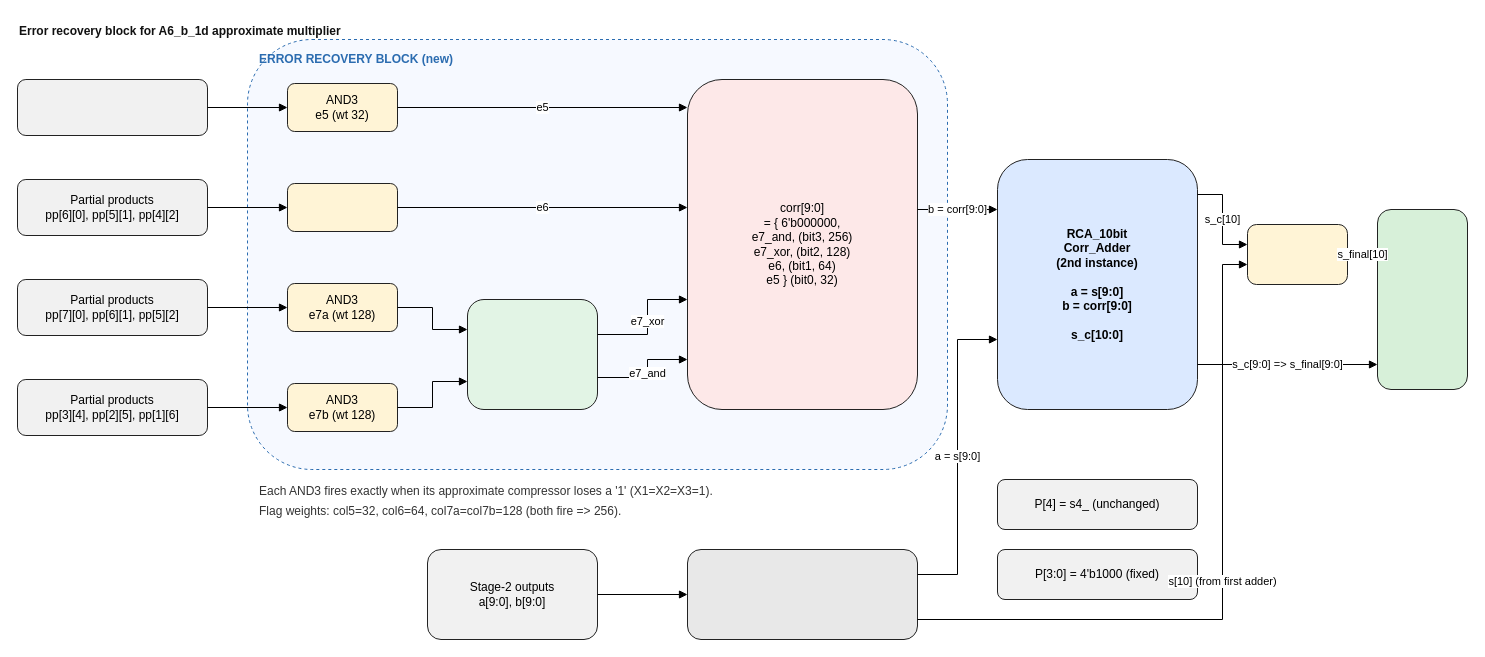
Image size: 1485x657. Some labels were removed from this diagram. The shapes that lost their labels are listed below. From the top down, each one's centre as x and y in pixels, then its label:
pixel 112 107: Partial products pp[5][0], pp[4][1], pp[3][2]
pixel 342 207: AND3 e6 (wt 64)
pixel 1297 254: OR
pixel 1422 299: s_final [10:0] => P[15:5]
pixel 532 354: Half adder on e7a, e7b xor = e7a ^ e7b and = e7a & e7b
pixel 802 594: RCA_10bit Adder (existing, unchanged) a[9:0] + b[9:0]
